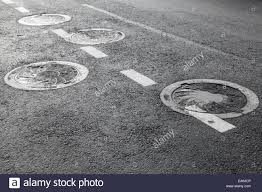Manhole-Closed: (161, 74, 258, 119), (3, 61, 86, 90), (67, 27, 126, 46), (16, 11, 72, 27)
